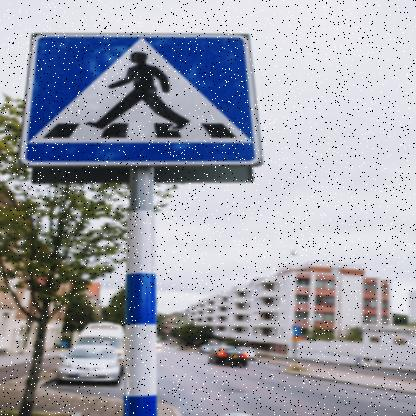Pedestrian Crossing: (27, 39, 254, 161)
